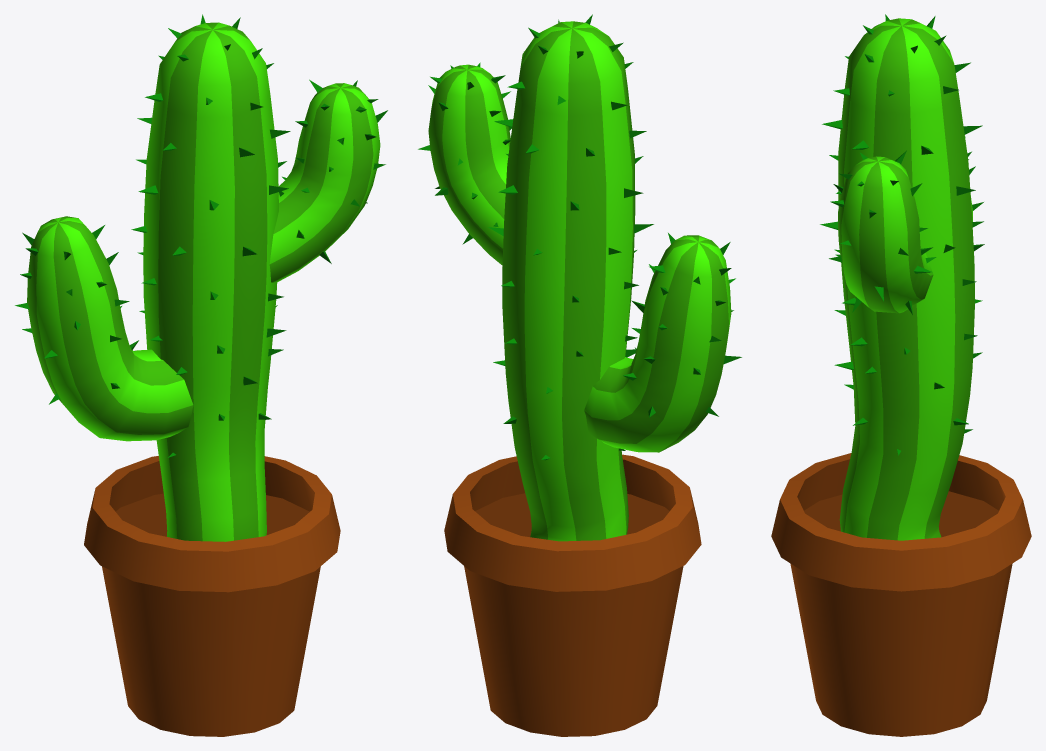
Rendered from Cactus.fbx.
3 views of the same model, side by side, from view 1: azimuth 30°, elevation 25°; view 2: azimuth 150°, elevation 25°; view 3: azimuth 270°, elevation 25° (orthographic).
Parts seen in each view (by area): view 1: Cactus.002, Cactus.003; view 2: Cactus.002, Cactus.003; view 3: Cactus.002, Cactus.003.
Part boxes in pixels (<box>): Cactus.002: <box>15,14,387,541</box>; Cactus.003: <box>84,456,340,736</box>; Cactus.002: <box>418,14,741,541</box>; Cactus.003: <box>444,454,701,736</box>; Cactus.002: <box>820,14,984,540</box>; Cactus.003: <box>771,453,1031,736</box>.
Bounding box in the file's own units: 162 × 312 × 109.
